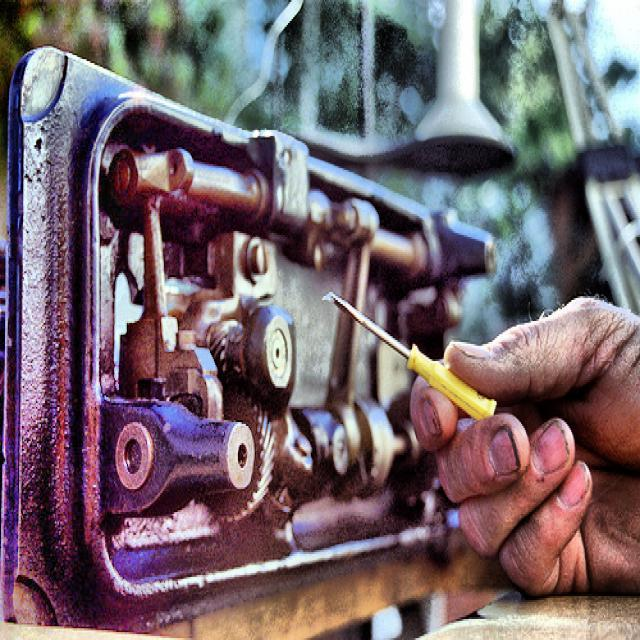screwdriver: (332, 293, 496, 422)
